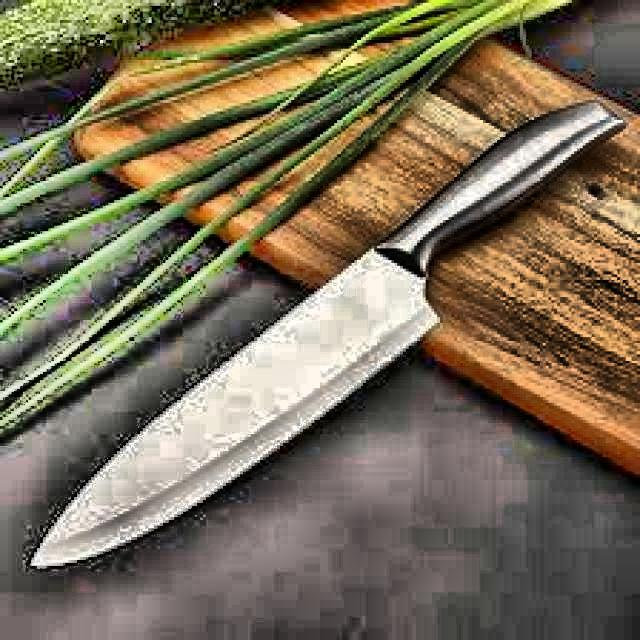knife: (34, 98, 632, 581)
